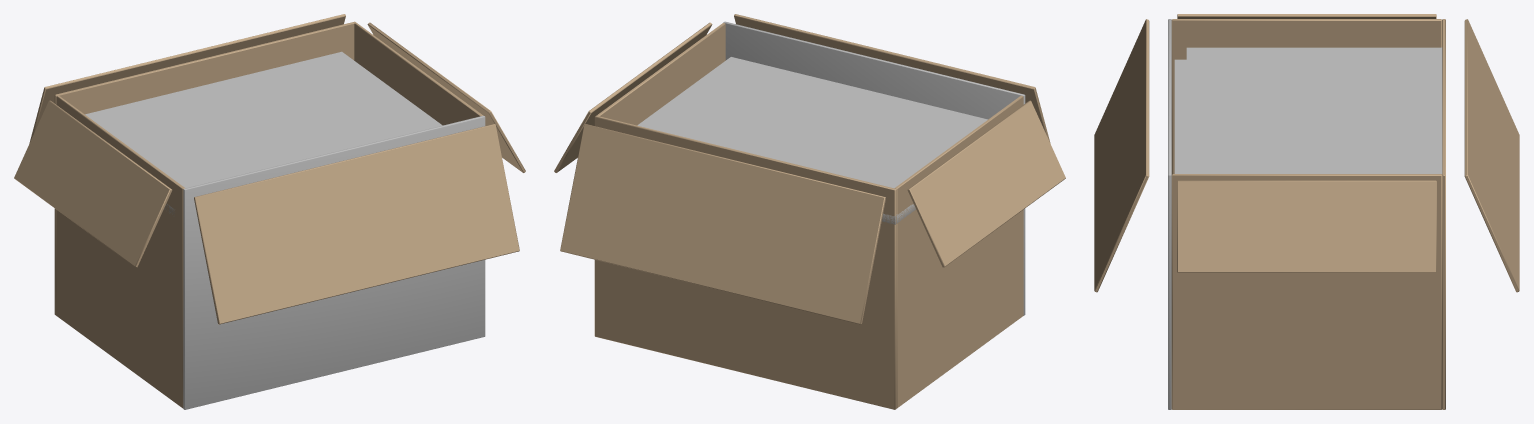
Rendered from Kit_FanfoldBox.fbx.
The picture shows the model from 3 angles, left to right: view 1: azimuth 30°, elevation 25°; view 2: azimuth 150°, elevation 25°; view 3: azimuth 270°, elevation 25°; orthographic projection. The views are drawn at different scales.
Visible parts, largest first — view 1: Kit_FanfoldBox_LOD0; view 2: Kit_FanfoldBox_LOD0; view 3: Kit_FanfoldBox_LOD0.
Boxes of the visible parts, <box> form: Kit_FanfoldBox_LOD0: <box>14,14,525,409</box>; Kit_FanfoldBox_LOD0: <box>554,14,1065,409</box>; Kit_FanfoldBox_LOD0: <box>1094,14,1519,409</box>.
Size of what is drawn, in the model's own units: 0.5197 by 0.28 by 0.4593.
